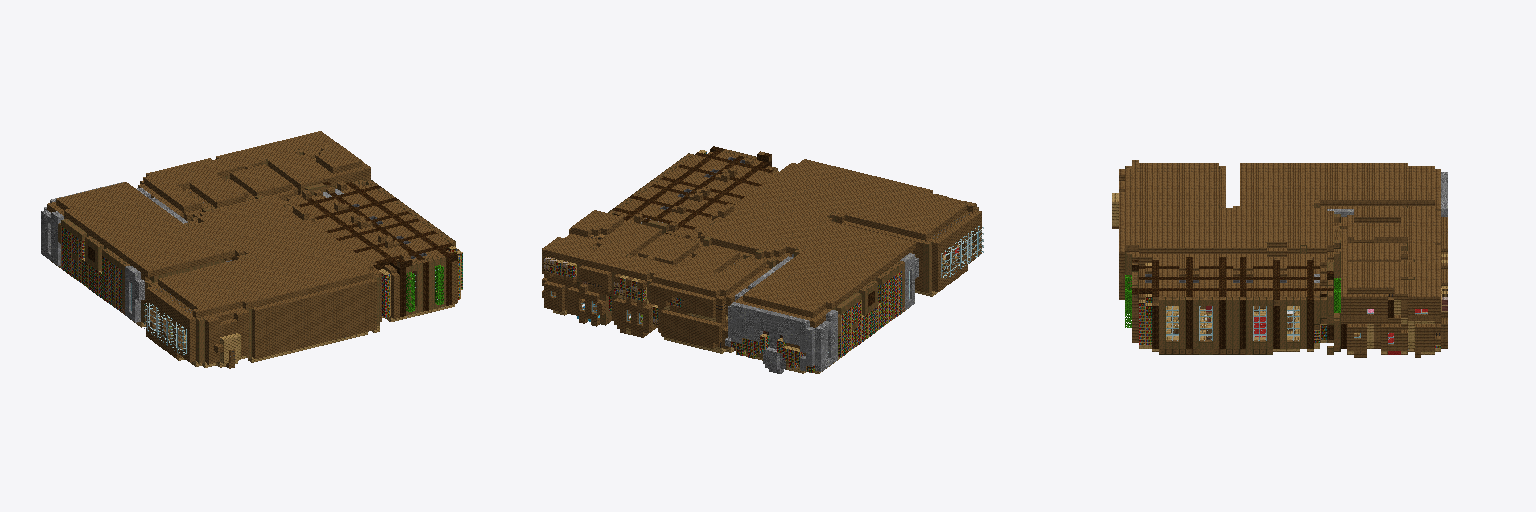
3 views of the same model, side by side, from view 1: azimuth 30°, elevation 25°; view 2: azimuth 150°, elevation 25°; view 3: azimuth 270°, elevation 25° (orthographic).
Size of the model in its own units: 50 by 12 by 50.
123 materials, 122 textured.